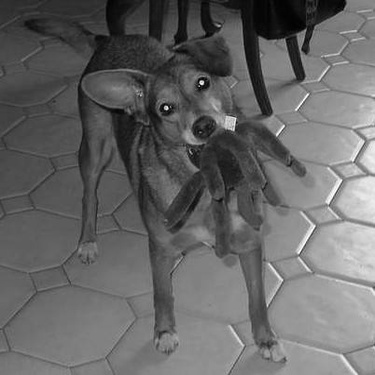dog: (10, 10, 292, 367)
